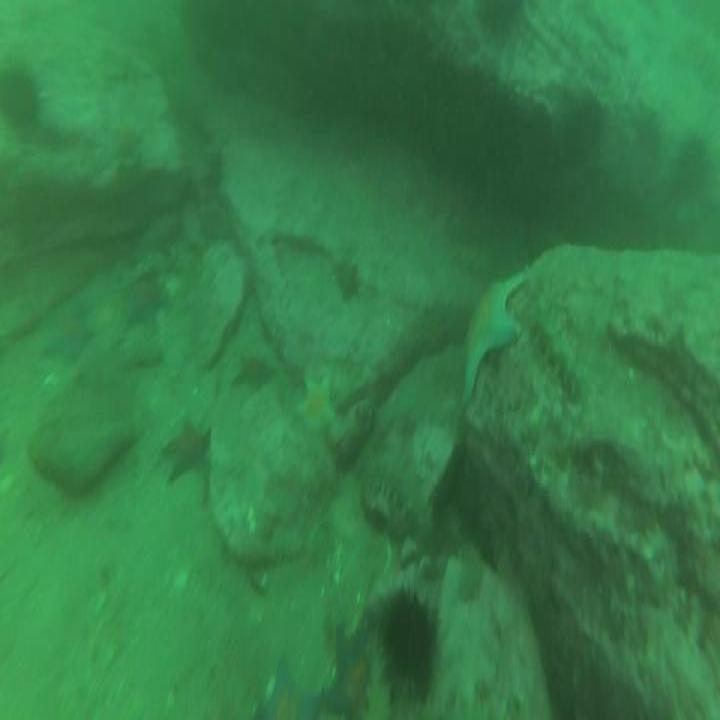echinus: (378, 581, 439, 704), (554, 82, 608, 176), (0, 59, 43, 138), (673, 130, 711, 202), (470, 0, 526, 44)
holothurian: (509, 279, 591, 414), (358, 474, 424, 554), (451, 532, 489, 606)
starfish: (460, 270, 526, 404), (321, 613, 376, 720), (247, 649, 324, 720), (113, 262, 176, 334), (289, 359, 343, 443), (161, 416, 221, 487), (39, 293, 94, 368), (228, 347, 278, 402)
